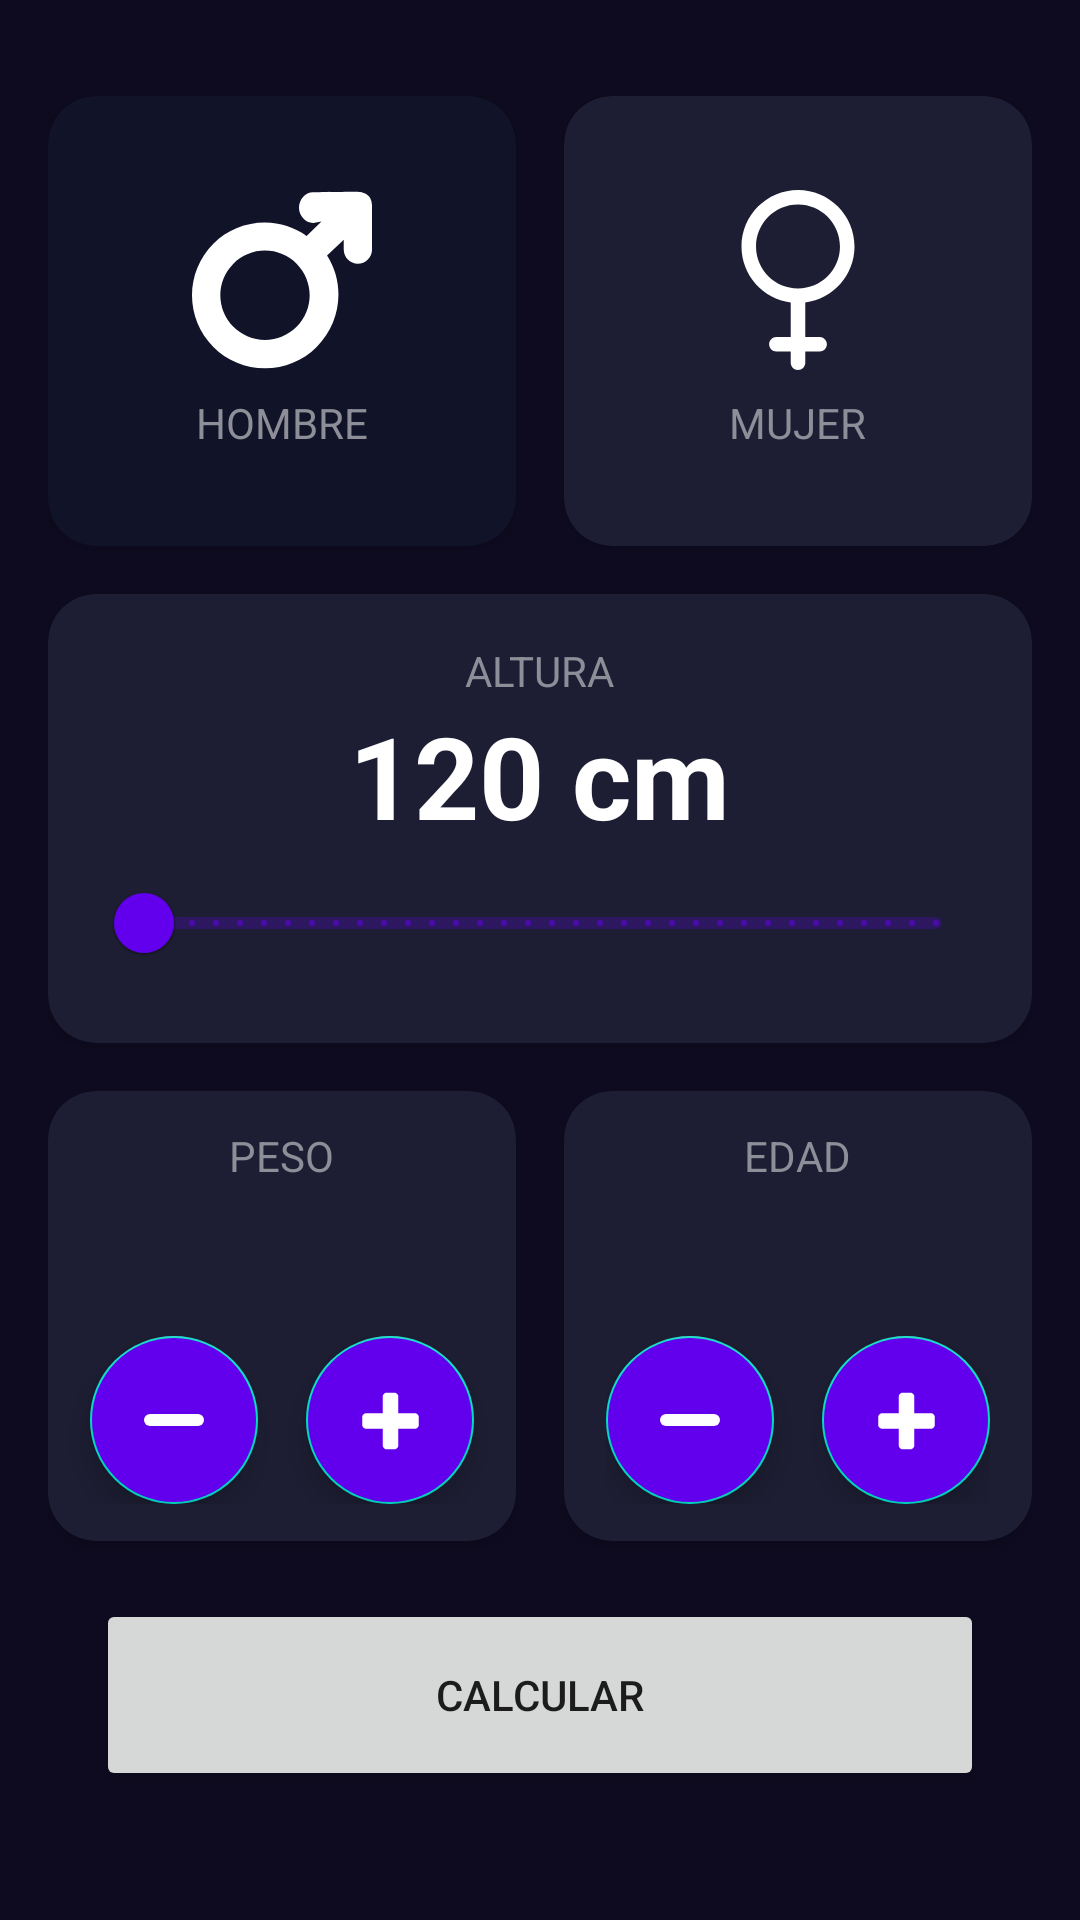

Screen size 1080px x 1920px. Icon name, then its center in pixels as [x,y]:
simbolmas: [390,1420], [906,1420]
simbolmenos: [174,1420], [690,1420]
